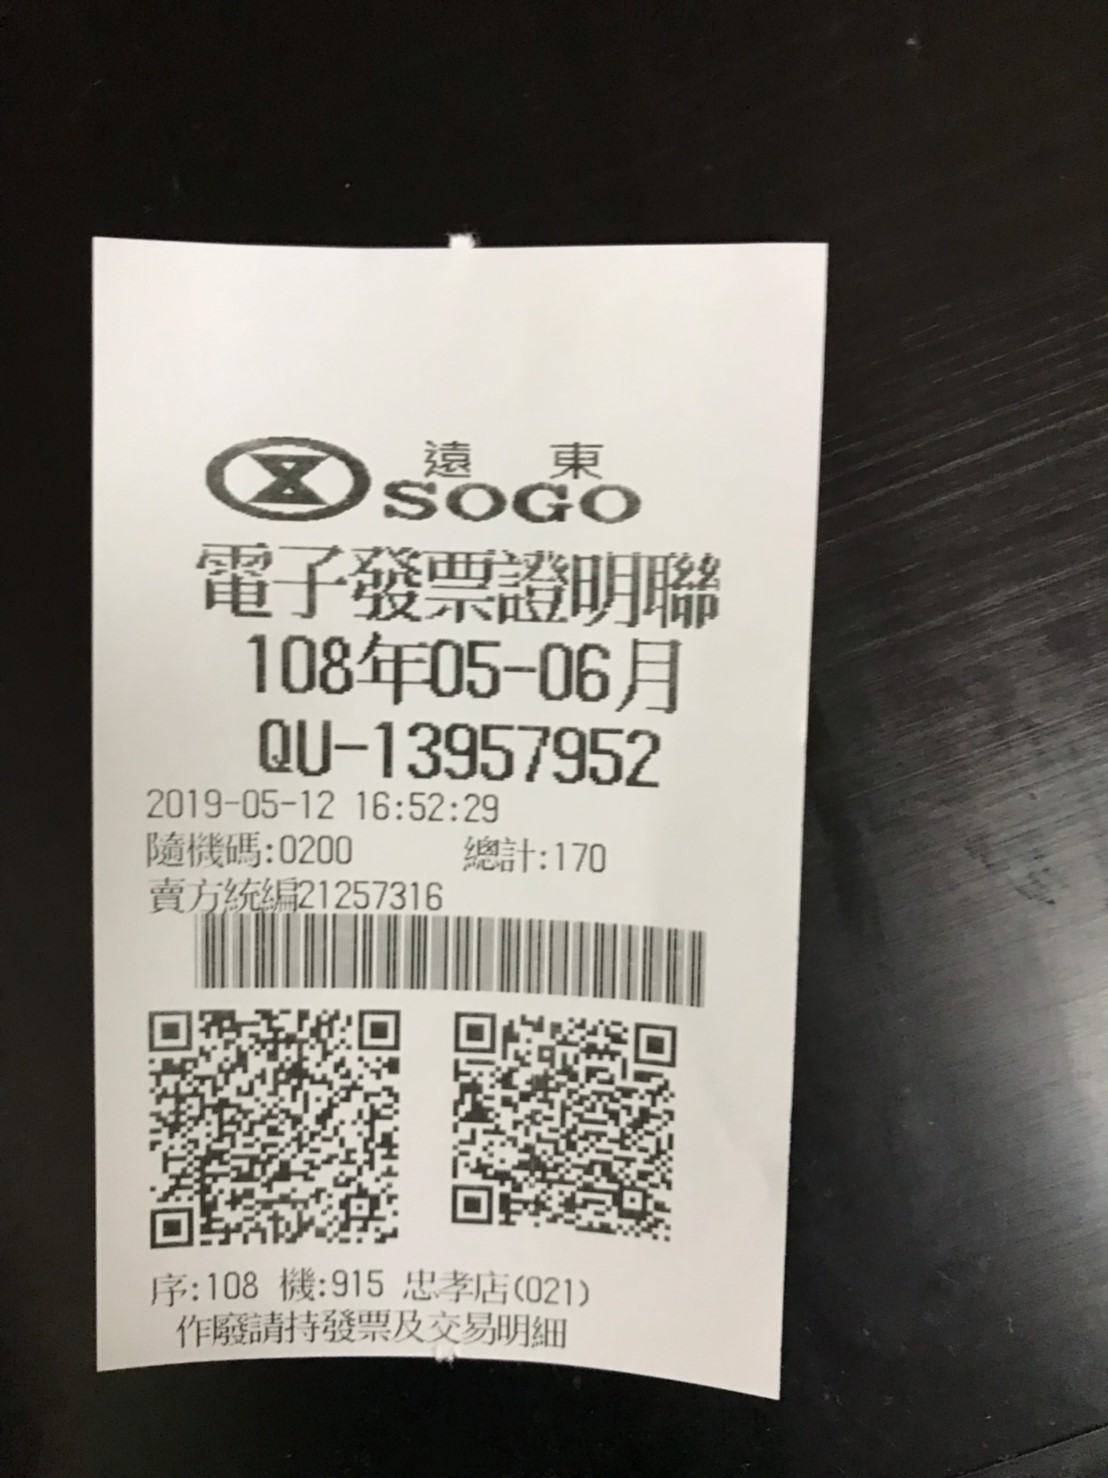Date_New: (242, 626, 690, 719)
Number_New: (376, 713, 673, 794)
